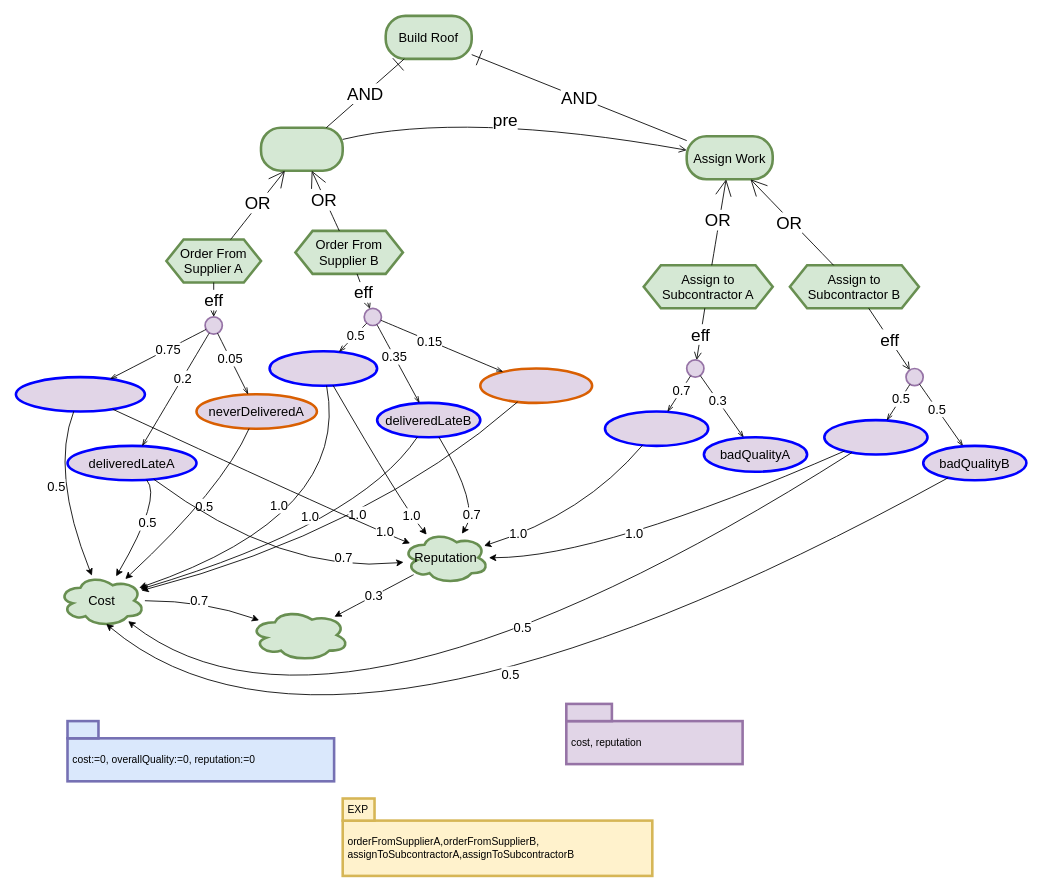
Image size: 1042x892. Some labels were removed from this diagram. Here are the shapes that lost their labels. From the top down, the box of each, then its label:
(259, 126, 344, 172): Order Material
(268, 350, 378, 387): deliveredInTimeB
(479, 367, 593, 404): neverDeliveredB
(14, 375, 146, 412): deliveredInTimeA
(603, 410, 709, 447): goodQualityA
(823, 418, 928, 455): goodQualityB
(249, 608, 350, 662): Overall Quality
(66, 719, 99, 739): INIT
(565, 702, 613, 722): CROSS
